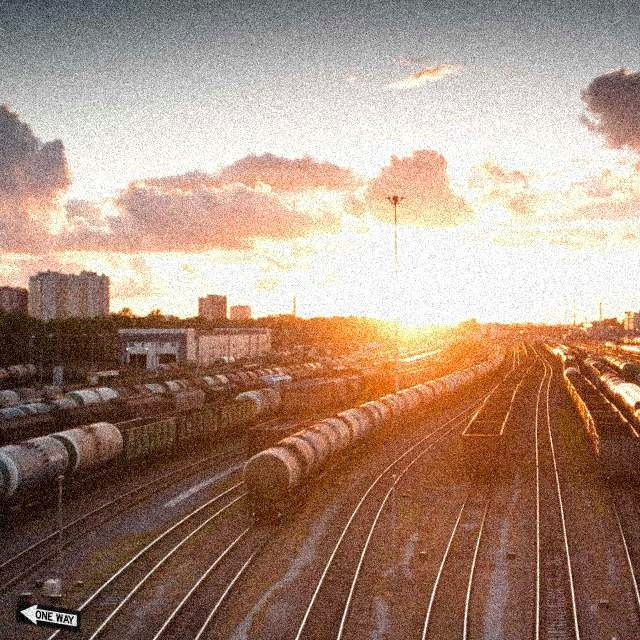ONE_WAY_ left: (15, 600, 81, 633)
